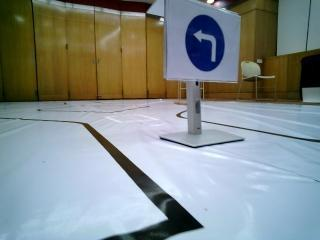left: (174, 12, 234, 84)
